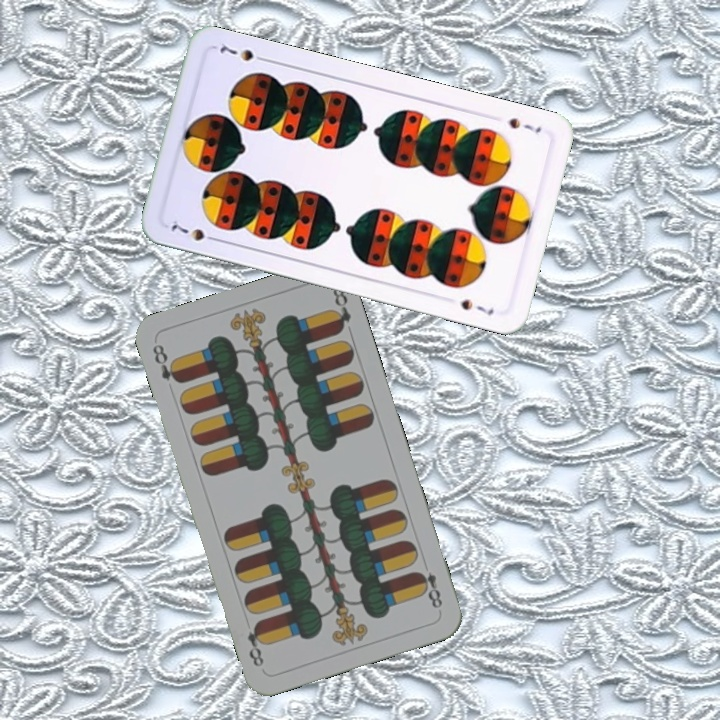E8: (148, 340, 184, 387), (413, 567, 445, 611)
S7: (167, 216, 222, 245), (505, 113, 544, 136)
